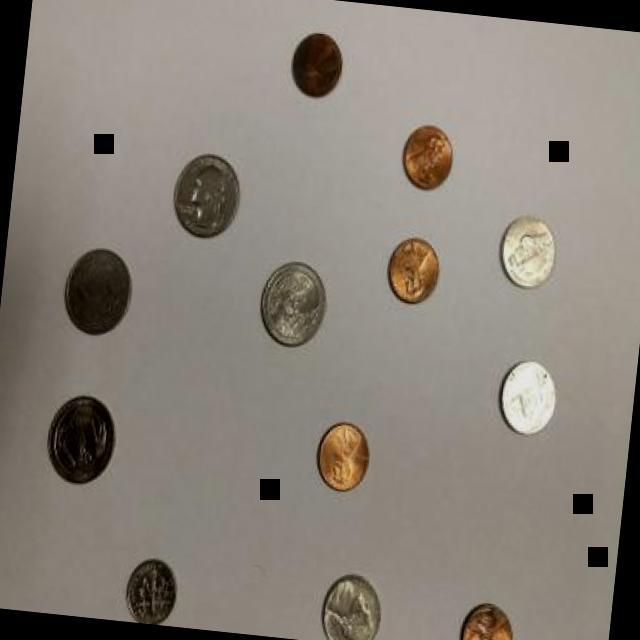Dime: (123, 557, 183, 626)
Nickel: (495, 211, 561, 294)
Penny: (310, 418, 378, 498), (383, 234, 446, 306), (286, 29, 348, 102), (400, 124, 460, 192), (458, 598, 520, 640)
Quarter: (59, 242, 140, 338), (44, 394, 124, 490), (168, 150, 245, 241), (255, 260, 332, 350), (316, 567, 390, 640)
